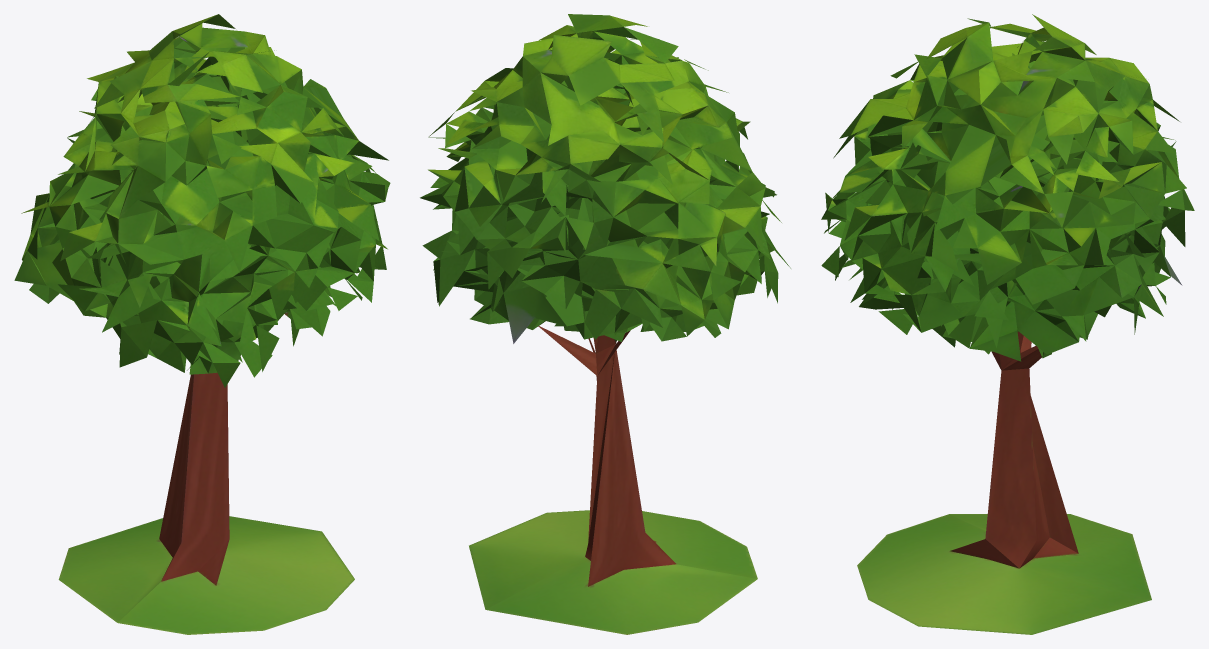
File: jemo-tree.glb
3 renders of one model, left to right at view 1: azimuth 30°, elevation 25°; view 2: azimuth 150°, elevation 25°; view 3: azimuth 270°, elevation 25°, orthographic. The views are drawn at different scales.
Visible parts, largest first — view 1: mesh_node; view 2: mesh_node; view 3: mesh_node.
Part boxes in pixels (x1=…): mesh_node: x1=14, y1=14, x2=390, y2=634; mesh_node: x1=420, y1=14, x2=790, y2=634; mesh_node: x1=821, y1=14, x2=1194, y2=634.
Size of the model in its own units: 1.15 by 1.87 by 1.14.
Materials: 1 (1 with a texture image).
